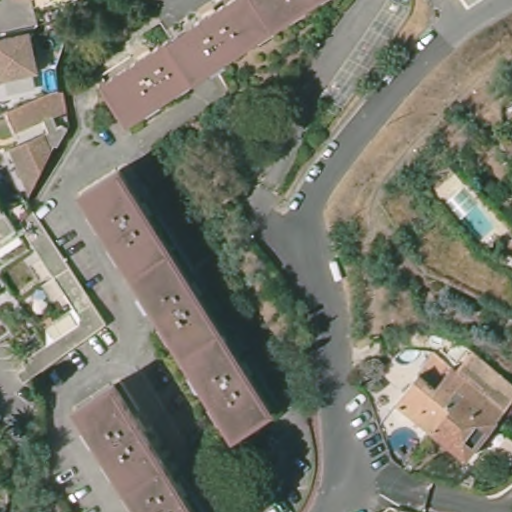pool: (444, 189, 496, 243), (389, 423, 421, 462), (37, 68, 61, 94)
